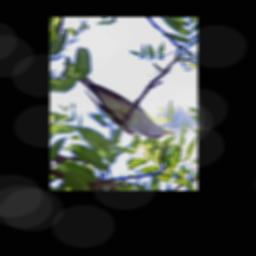Cuckoo: (63, 61, 176, 139)
